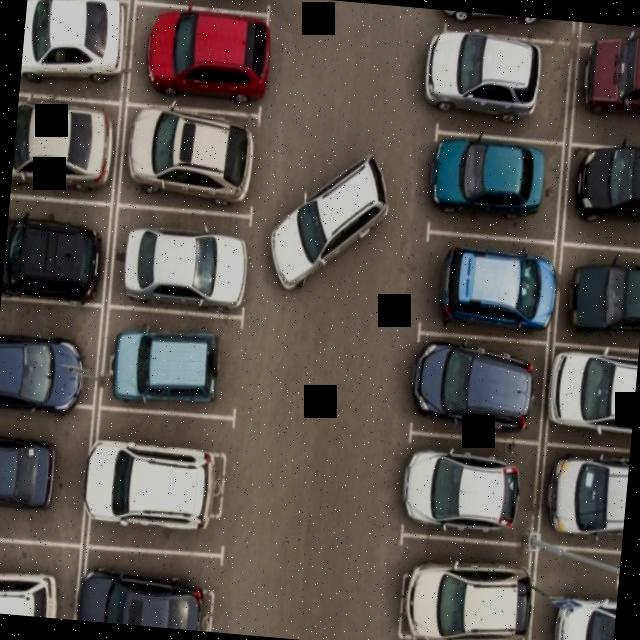car: (84, 415, 230, 547), (428, 30, 575, 144), (115, 106, 262, 218), (124, 2, 274, 106), (422, 134, 561, 243), (413, 232, 556, 335), (408, 333, 550, 435), (393, 536, 532, 640), (399, 437, 536, 541), (110, 210, 252, 308), (103, 310, 236, 404), (0, 400, 88, 539), (77, 554, 221, 632), (10, 98, 118, 198), (548, 245, 640, 358), (19, 0, 124, 98), (2, 200, 108, 296), (536, 442, 630, 548), (0, 302, 95, 401), (545, 348, 638, 444), (558, 143, 640, 250), (527, 547, 620, 640), (568, 47, 640, 139), (0, 549, 74, 619)
